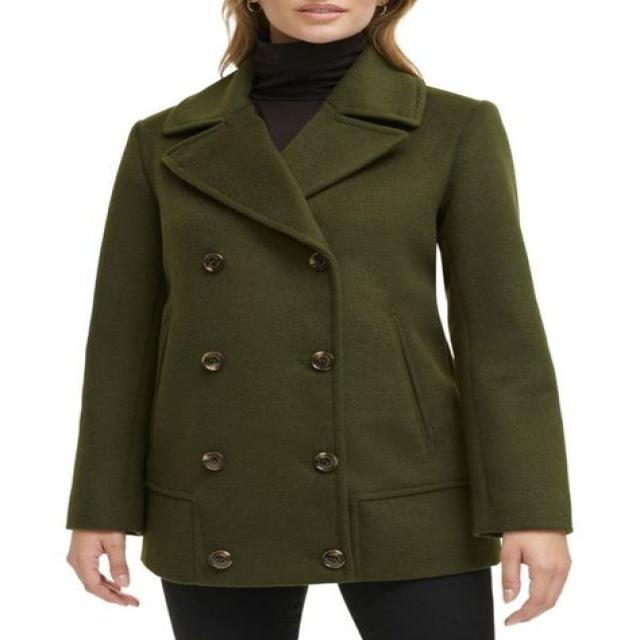coat: (59, 89, 581, 585)
sweater: (244, 38, 373, 157)
trousers: (151, 568, 496, 640)
